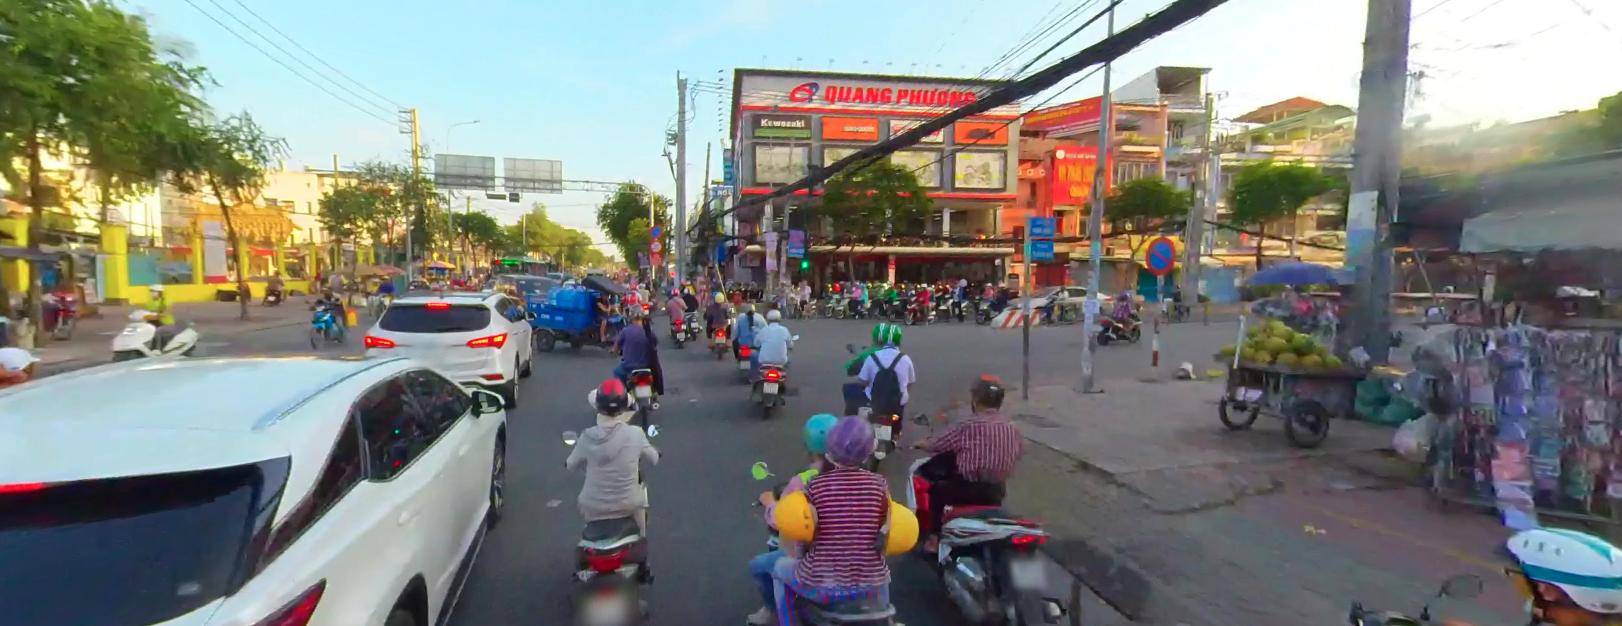Cam con lai: (649, 239, 662, 252)
Cam dung va do: (1146, 236, 1175, 274), (649, 225, 661, 237)
